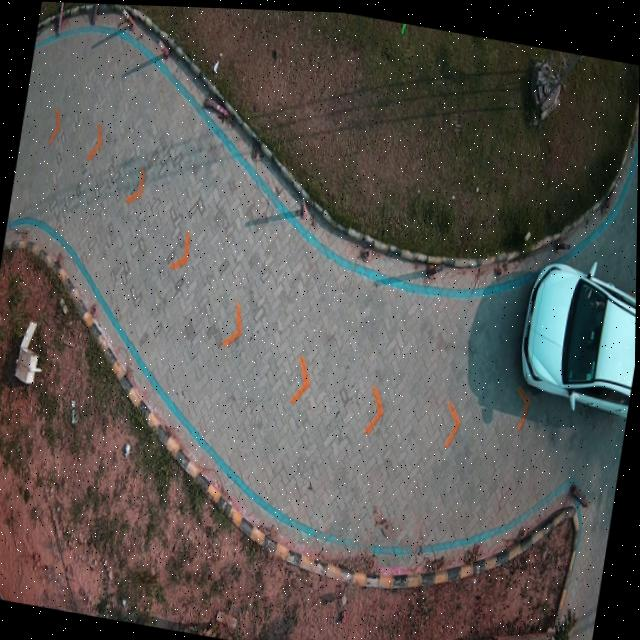car: (523, 258, 637, 413)
